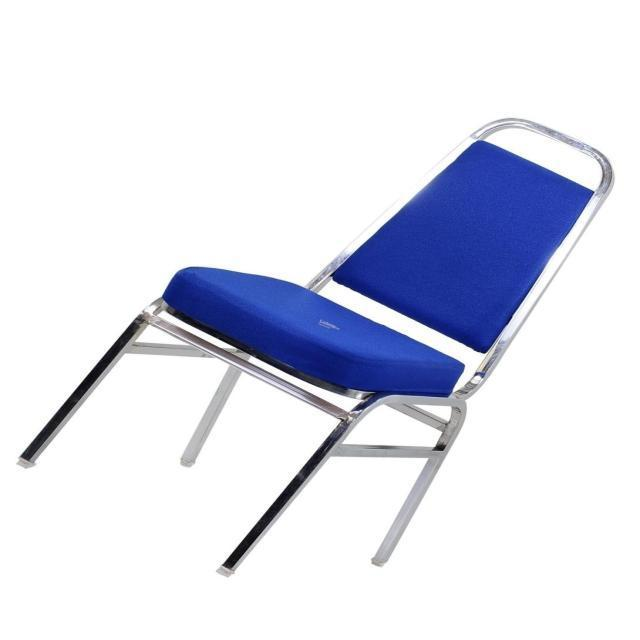chair: (16, 109, 628, 581)
